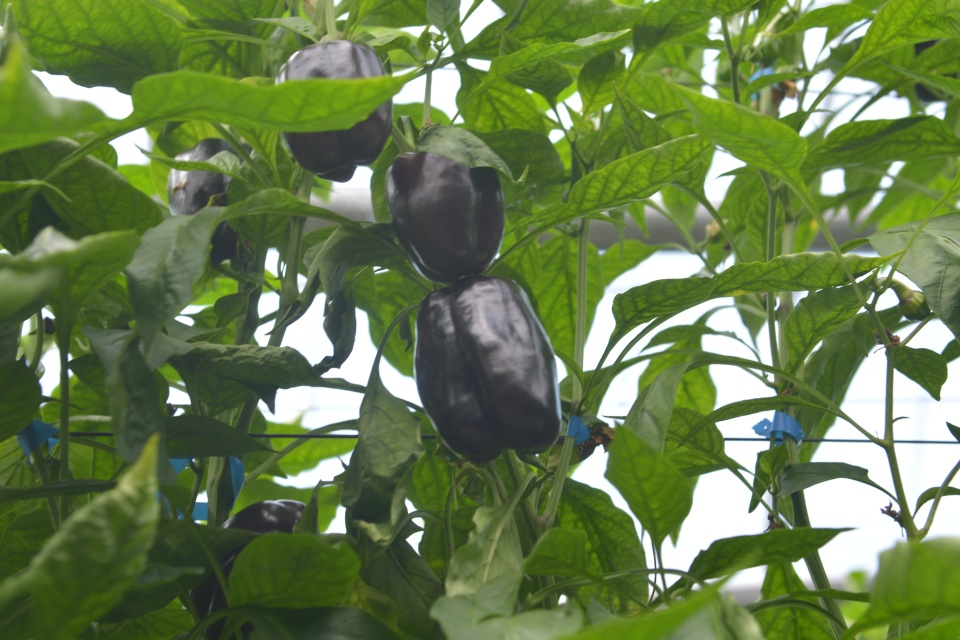fruit: (411, 276, 563, 465), (188, 496, 314, 640), (273, 36, 394, 184), (384, 148, 508, 285), (164, 135, 254, 272), (913, 39, 957, 102)
immature: (898, 287, 933, 324), (753, 29, 784, 68)
pedicle: (318, 33, 343, 42)
